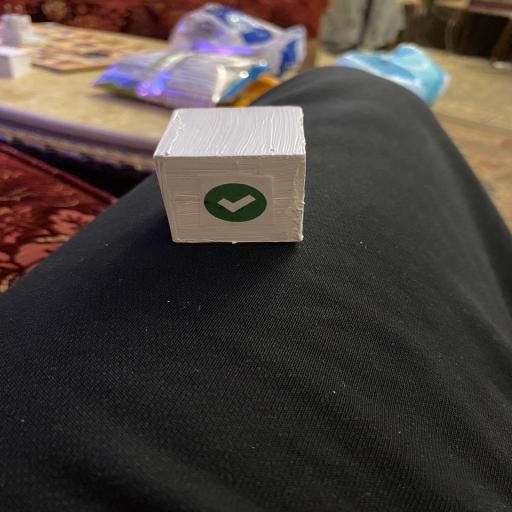Confirm: (152, 105, 311, 245)
